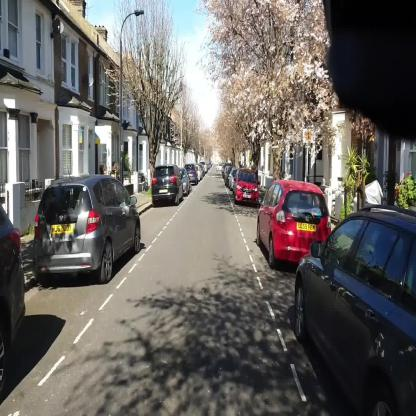car: (294, 206, 416, 414), (34, 176, 142, 286), (258, 179, 330, 272), (152, 165, 184, 206), (234, 168, 258, 208), (184, 164, 198, 187), (179, 168, 190, 197)
